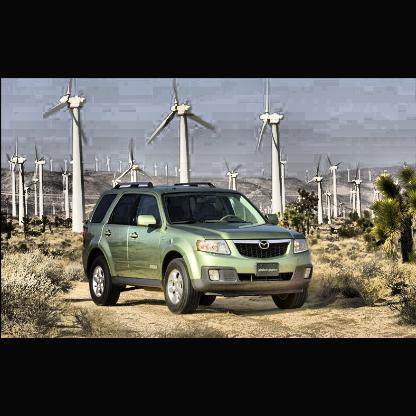Mazda Tribute SUV 2011: (81, 181, 315, 313)
